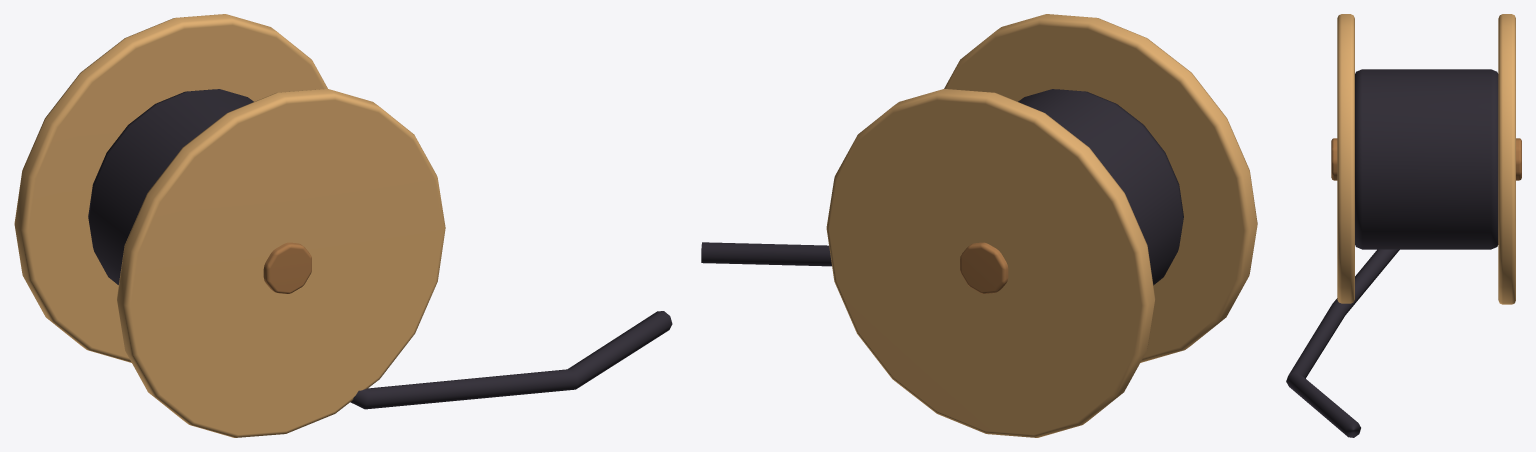
File: dune_cable_reel.glb
3 views of the same model, side by side, from view 1: azimuth 30°, elevation 25°; view 2: azimuth 150°, elevation 25°; view 3: azimuth 270°, elevation 25° (orthographic). The views are drawn at different scales.
Parts seen in each view (by area): view 1: CableReel; view 2: CableReel; view 3: CableReel.
Boxes of the visible parts, x1,y1,x2,y2 form: CableReel: (14,14,672,437); CableReel: (701,14,1257,437); CableReel: (1286,14,1521,437).
Bounding box in the file's own units: 3.43 × 2 × 1.61.
